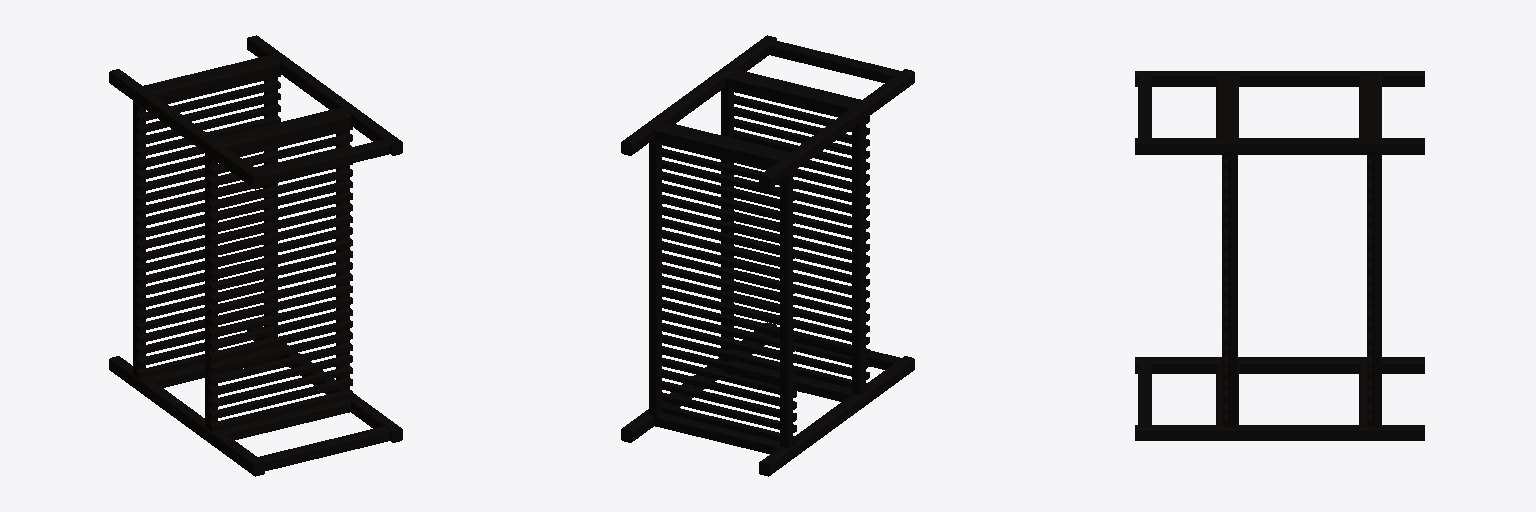
3 views of the same model, side by side, from view 1: azimuth 30°, elevation 25°; view 2: azimuth 150°, elevation 25°; view 3: azimuth 270°, elevation 25° (orthographic).
Visible parts, largest first — view 1: shoe_cabinet2; view 2: shoe_cabinet2; view 3: shoe_cabinet2.
Boxes of the visible parts, x1=… form: shoe_cabinet2: x1=109, y1=35, x2=402, y2=476; shoe_cabinet2: x1=621, y1=35, x2=914, y2=476; shoe_cabinet2: x1=1135, y1=71, x2=1424, y2=440.
Bounding box in the file's own units: 0.2049 × 0.3942 × 0.3457.